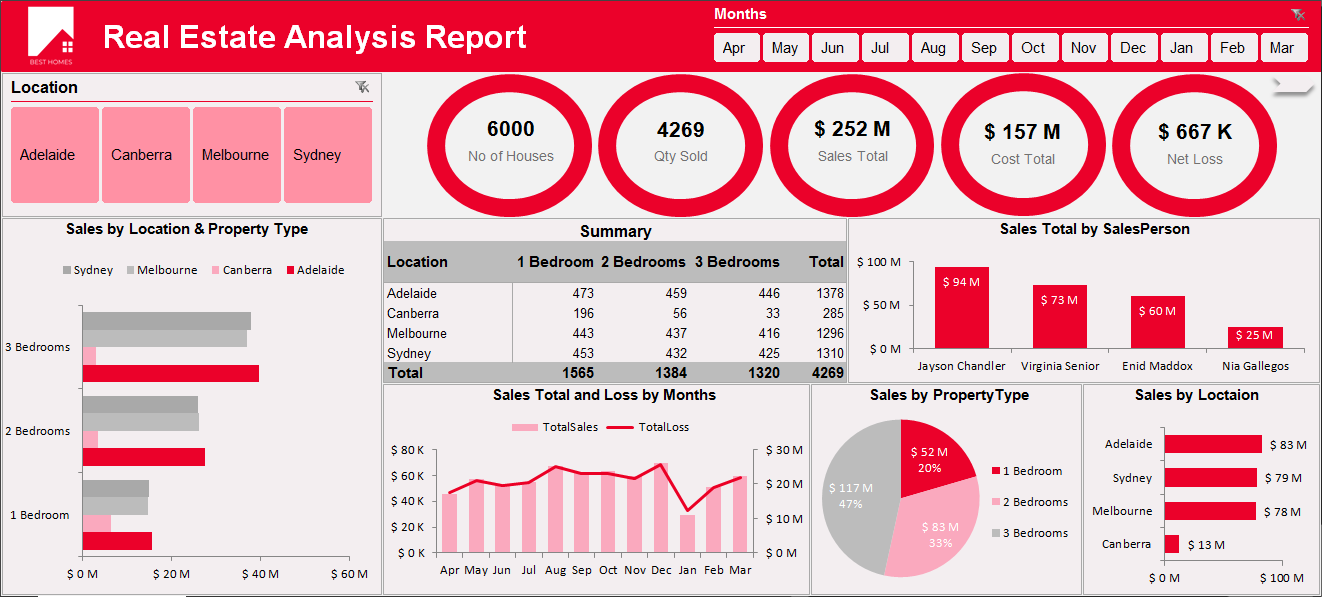

What the dashboard file says about the page in this screenshot:
{"tool":"powerbi","page":{"name":"Real Estate Analysis","canvas":[3300,1800],"ordinal":0},"visuals":[{"type":"shape","box":[4,0,3295.1,279.3],"z":0},{"type":"shape","box":[838.3,279.3,481.7,384.6],"z":1000,"group":"g1"},{"type":"clusteredBarChart","title":"Sales by and Location Property Type","fields":{"Y":["Real Estate Analysis Report.Sales Total"],"Category":["Real Estate Analysis Report.PropertyType"],"Series":["Real Estate Analysis Report.Location"]},"box":[4,663.9,797.5,1133.5],"z":1000},{"type":"shape","box":[1326,279.3,481.7,384.6],"z":2000,"group":"g2"},{"type":"lineClusteredColumnComboChart","title":"Sales Total and Loss by Months","fields":{"Y":["Real Estate Analysis Report.Sales Total"],"Y2":["Real Estate Analysis Report.Net Loss"],"Category":["Real Estate Analysis Report.SaleDate.Variation.Date Hierarchy.Month"]},"box":[805.6,1169.9,1088.9,627.5],"z":2000},{"type":"shape","box":[1813.6,279.3,481.7,384.6],"z":3000,"group":"g3"},{"type":"pieChart","title":"Sales by Property Type","fields":{"Category":["Real Estate Analysis Report.PropertyType"],"Y":["Real Estate Analysis Report.Sales Total"]},"box":[1898.5,1169.9,688.2,627.5],"z":3000},{"type":"shape","box":[2301.3,279.3,481.7,384.6],"z":4000,"group":"g5"},{"type":"clusteredBarChart","title":"Sales by Location","fields":{"Category":["Real Estate Analysis Report.Location"],"Y":["Real Estate Analysis Report.Sales Total"]},"box":[2590.8,1169.9,708.4,627.5],"z":4000},{"type":"shape","box":[2788.9,279.3,481.7,384.6],"z":5000,"group":"g4"},{"type":"clusteredColumnChart","title":"Sales Total by Sales Person","fields":{"Y":["Real Estate Analysis Report.Sales Total"],"Category":["Real Estate Analysis Report.SalesPerson"]},"box":[1898.5,663.9,1400.6,502],"z":5000},{"type":"card","fields":{"Values":["Real Estate Analysis Report.Qty Sold"]},"box":[1411,336,311.7,275.3],"z":6000,"group":"g2"},{"type":"pivotTable","title":"Summary","fields":{"Rows":["Real Estate Analysis Report.Location"],"Columns":["Real Estate Analysis Report.PropertyType"],"Values":["Real Estate Analysis Report.Qty Sold"]},"box":[805.6,663.9,1088.9,502],"z":6000},{"type":"advancedSlicerVisual","fields":{"Values":["Real Estate Analysis Report.Location"]},"box":[4.2,283.1,797.5,376.7],"z":7000},{"type":"card","fields":{"Values":["Real Estate Analysis Report.Sales Total"]},"box":[1898.6,336,311.7,275.3],"z":7000,"group":"g3"},{"type":"advancedSlicerVisual","title":"Months","fields":{"Values":["Real Estate Analysis Report.MonthName"]},"box":[1400.6,20.2,1712.3,242.9],"z":8000},{"type":"card","fields":{"Values":["Real Estate Analysis Report.Cost Total"]},"box":[2386.3,336,311.7,275.3],"z":8000,"group":"g5"},{"type":"image","box":[0,0,291.5,279.3],"z":9000},{"type":"card","fields":{"Values":["Real Estate Analysis Report.Net Loss"]},"box":[2873.9,336,311.7,275.3],"z":9000,"group":"g4"},{"type":"textbox","box":[259.1,60.7,1097,202.4],"z":10000},{"type":"shape","box":[3141.3,117.4,145.7,89.1],"z":11000},{"type":"group","id":"g1","title":"Group 1","box":[838.3,279.3,481.7,384.6],"z":12000},{"type":"group","id":"g2","title":"Group 2","box":[1326,279.3,481.7,384.6],"z":13000},{"type":"group","id":"g3","title":"Group 3","box":[1813.6,279.3,481.7,384.6],"z":14000},{"type":"group","id":"g4","title":"Group 4","box":[2788.9,279.3,481.7,384.6],"z":15000},{"type":"group","id":"g5","title":"Group 5","box":[2301.3,279.3,481.7,384.6],"z":16000},{"type":"card","fields":{"Values":["Real Estate Analysis Report.No of Houses"]},"box":[927.4,336,311.7,275.3],"z":16000,"group":"g1"}]}

Visuals, with their boxes on the page's 3300x1800 design canvas (x1, y1, x2, y2). These are canvas units, not pixel positions in the 1322x597 screenshot, which may show the page scaled, cropped or inside an application window:
shape: 4,0,3299,279
shape: 838,279,1320,664
"Sales by and Location Property Type" clusteredBarChart: 4,664,802,1797
shape: 1326,279,1808,664
"Sales Total and Loss by Months" lineClusteredColumnComboChart: 806,1170,1894,1797
shape: 1814,279,2295,664
"Sales by Property Type" pieChart: 1898,1170,2587,1797
shape: 2301,279,2783,664
"Sales by Location" clusteredBarChart: 2591,1170,3299,1797
shape: 2789,279,3271,664
"Sales Total by Sales Person" clusteredColumnChart: 1898,664,3299,1166
card - Real Estate Analysis Report.Qty Sold: 1411,336,1723,611
"Summary" pivotTable: 806,664,1894,1166
advancedSlicerVisual - Real Estate Analysis Report.Location: 4,283,802,660
card - Real Estate Analysis Report.Sales Total: 1899,336,2210,611
"Months" advancedSlicerVisual: 1401,20,3113,263
card - Real Estate Analysis Report.Cost Total: 2386,336,2698,611
image: 0,0,292,279
card - Real Estate Analysis Report.Net Loss: 2874,336,3186,611
textbox: 259,61,1356,263
shape: 3141,117,3287,206
"Group 1" group: 838,279,1320,664
"Group 2" group: 1326,279,1808,664
"Group 3" group: 1814,279,2295,664
"Group 4" group: 2789,279,3271,664
"Group 5" group: 2301,279,2783,664
card - Real Estate Analysis Report.No of Houses: 927,336,1239,611
